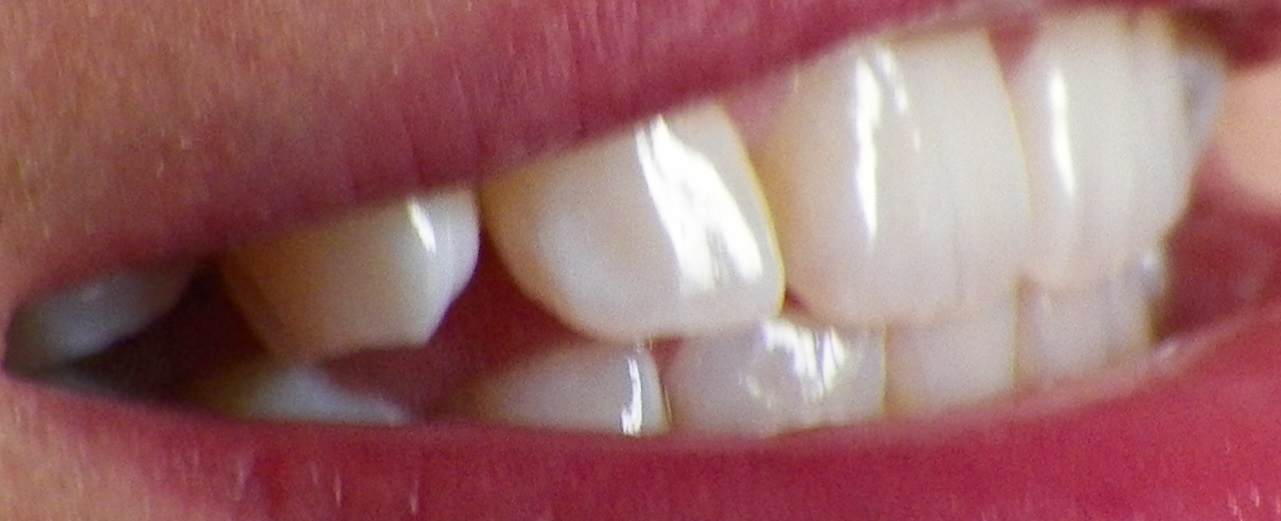boca: (29, 7, 1240, 428)
